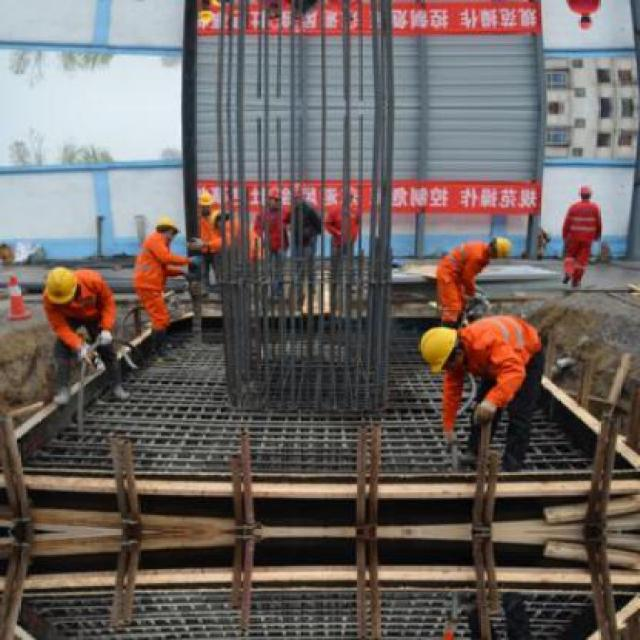Reflective-Jacket: (458, 310, 550, 413), (35, 274, 123, 360), (429, 234, 497, 320), (129, 231, 183, 333), (556, 199, 606, 261)
Safety-Helmet: (411, 322, 466, 381), (35, 260, 83, 308), (189, 183, 223, 216), (488, 233, 518, 265), (151, 210, 183, 239), (576, 182, 596, 197)
